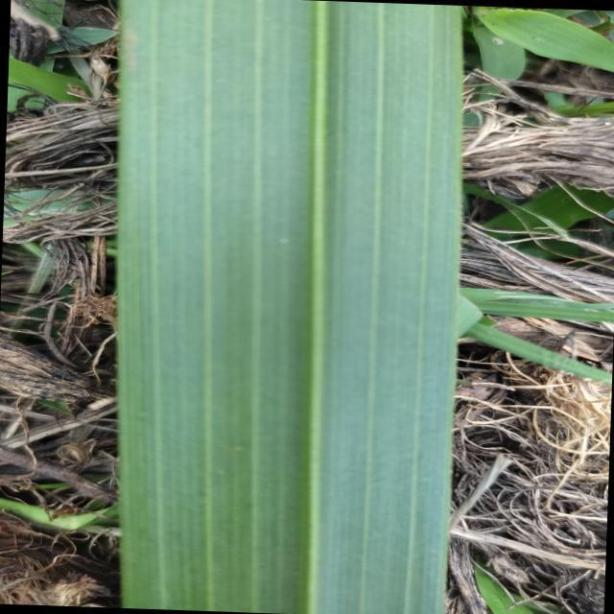Healthy: (116, 0, 452, 614)
